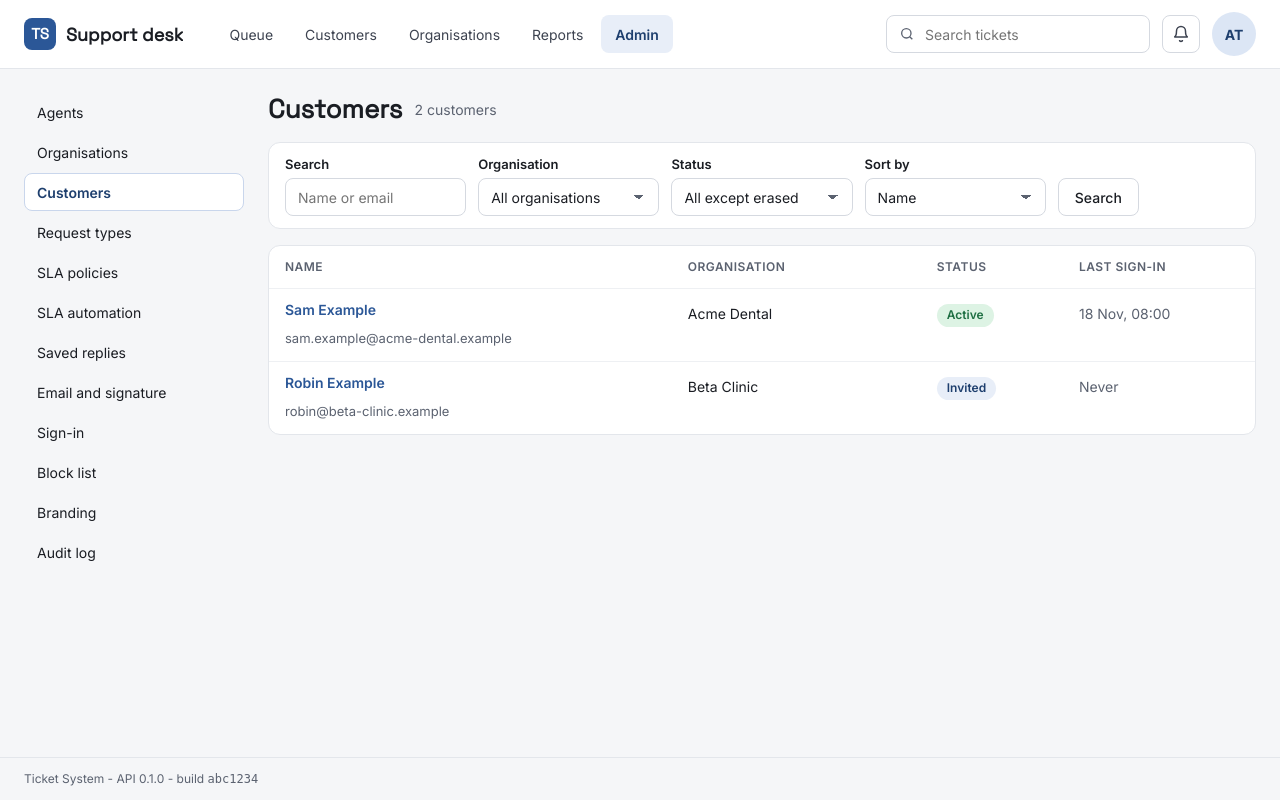
Test case: Admin - Customers › resends an invitation to an invited customer
Click the button "Robin Example": (335, 383) [285,364,385,402]
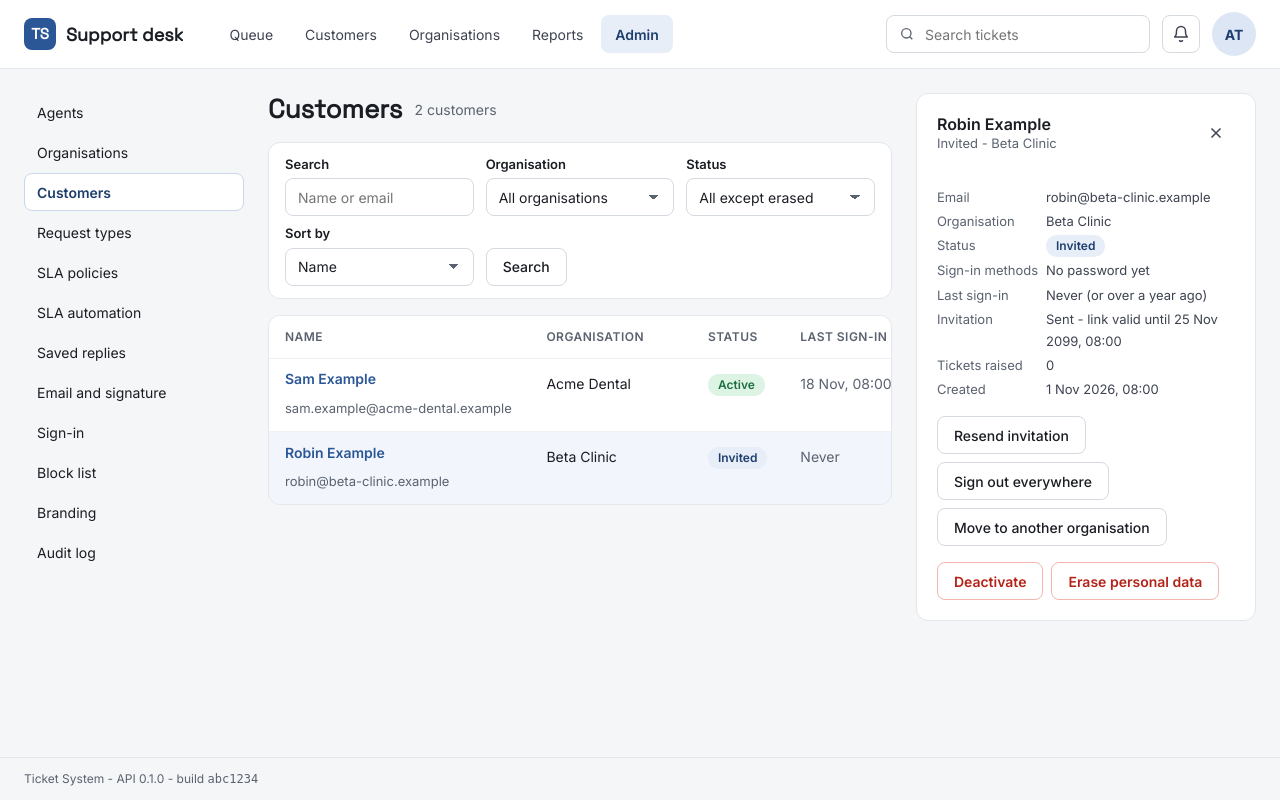
expect the text "Sign-in methods" is shown: met, box [937,260,1038,282]
expect the text "Sent - link valid until 25 Nov 2099, 08:00" is shown: met, box [1046,308,1235,352]
Click the button "Resend invitation": (1011, 435) [937,416,1086,454]
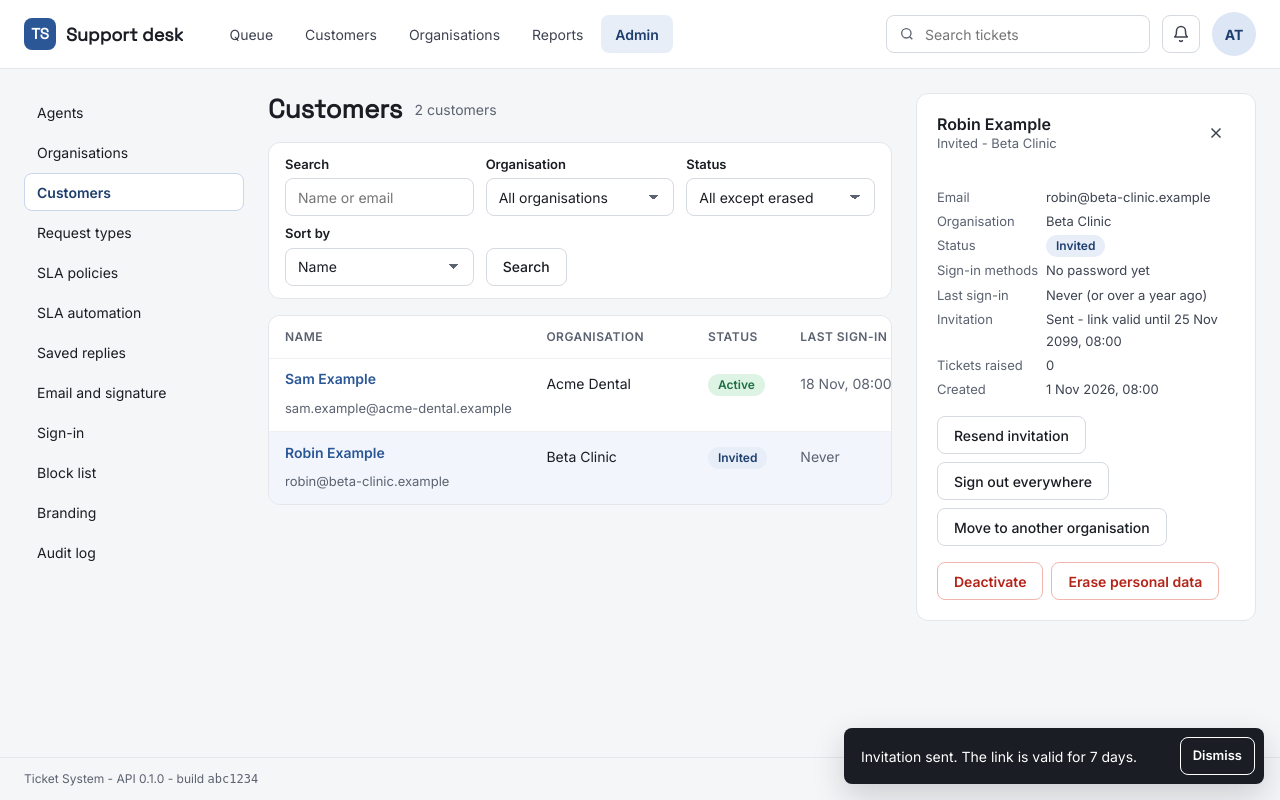
expect the text "Invitation sent. The link is valid for 7 days." is shown: met, box [861,746,1168,766]
